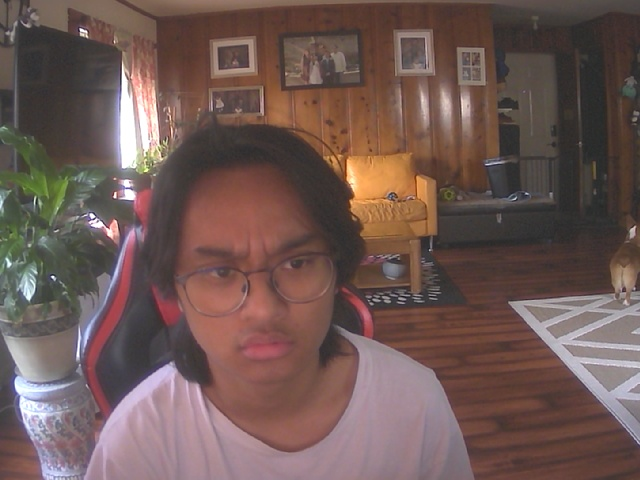anger: (167, 137, 357, 386)
